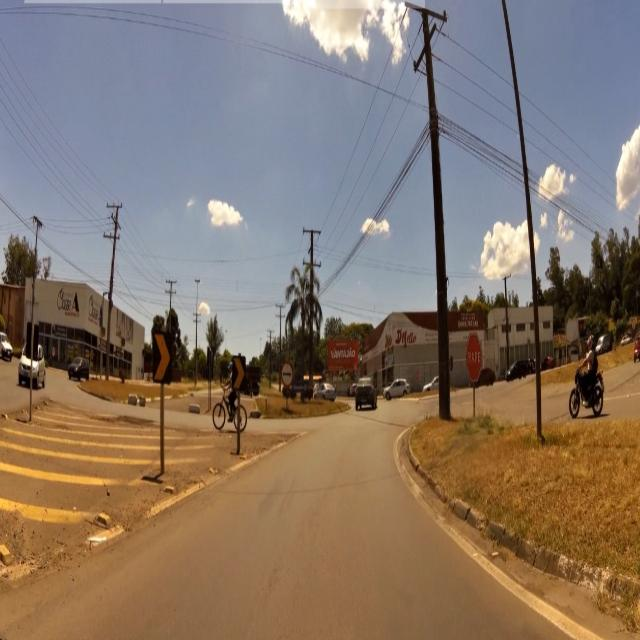R-1: (464, 333, 486, 388)
R-24a: (281, 362, 294, 389)
